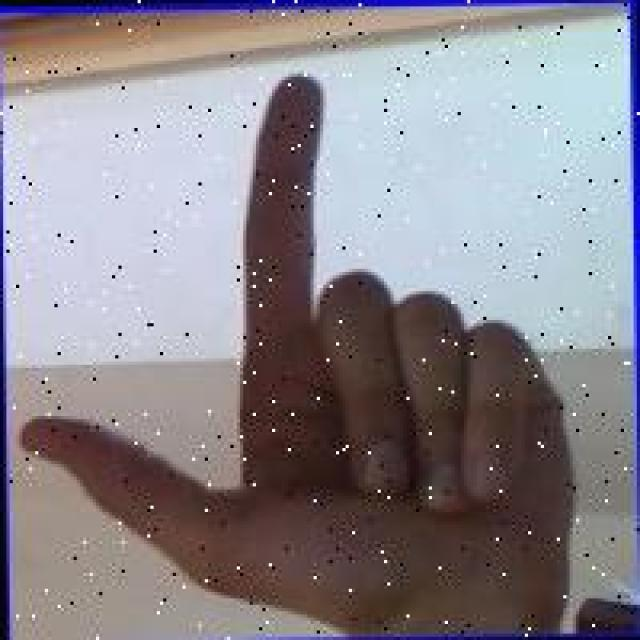L: (8, 62, 578, 632)
